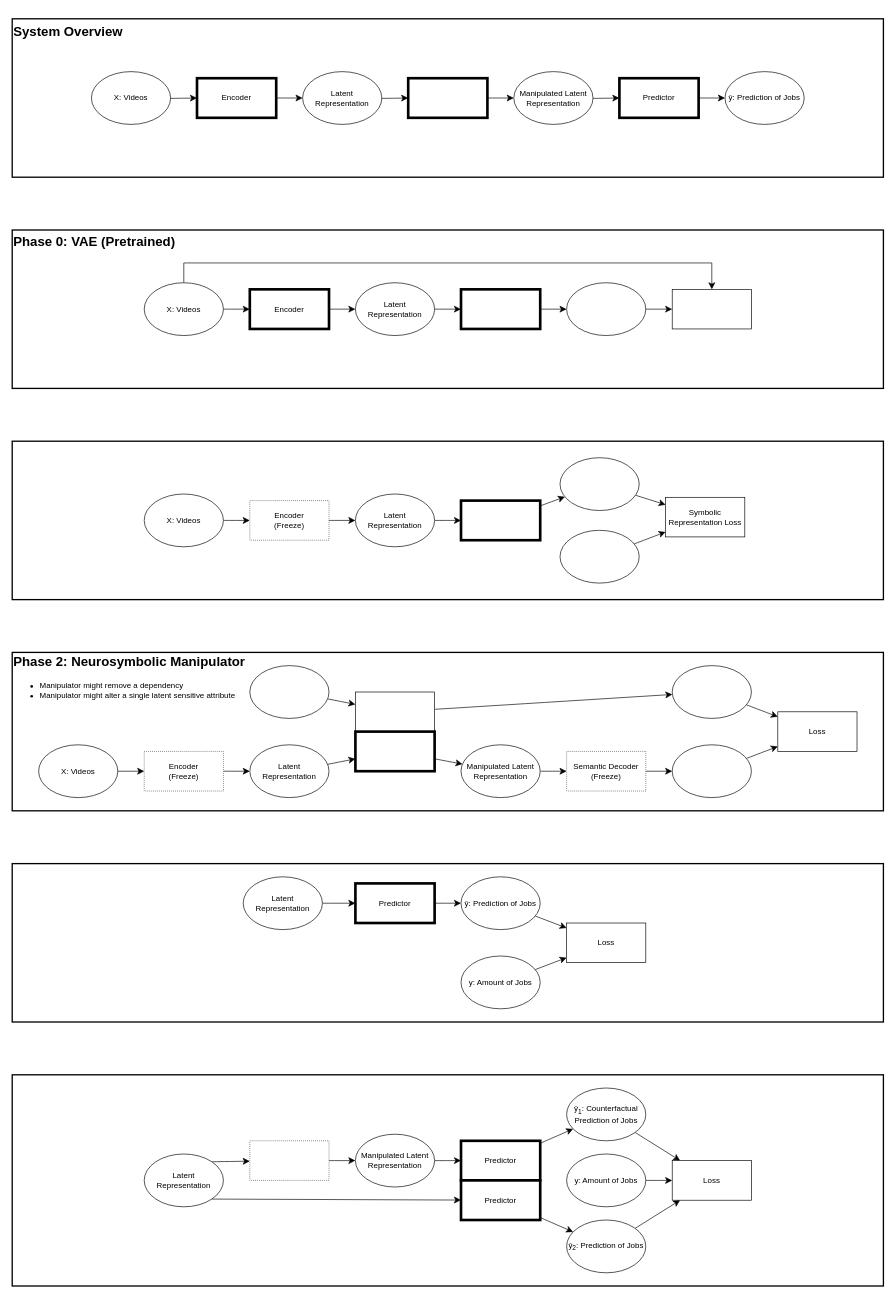
Some shapes in this 895 by 1305 pixel diagram are drawn without their labels. The shapes that lost their labels are listed below. From the top down, each one's box as (x1, y1, x2, y2) in pixels, then its label:
(407, 77, 488, 119): Neurosymbolic Manipulator
(459, 288, 541, 330): Decoder
(566, 282, 646, 336): y': Recreated Video
(672, 289, 751, 329): VAE Loss
(559, 457, 639, 511): ŷ: Decoded Metadata
(11, 440, 884, 600): Phase 1: Semantic Decoder
(459, 499, 541, 541): Semantic Decoder
(559, 530, 639, 583): y: Metadata
(249, 665, 329, 718): Metadata (+ Labels)
(355, 691, 435, 732): Symbolic Manipulator
(672, 665, 751, 718): y: Manipulated Metadata
(354, 730, 436, 772): Neural Manipulator
(672, 744, 751, 798): ŷ: Decoded Manipulated Metadata
(11, 863, 884, 1022): Phase 3: Predictor Pre-Processing Post-Processing
(249, 1140, 329, 1180): Neurosymbolic Manipulator (Freeze)
(11, 1074, 884, 1286): Phase 4: Counterfactual Fairness Mitigation In-Processing
